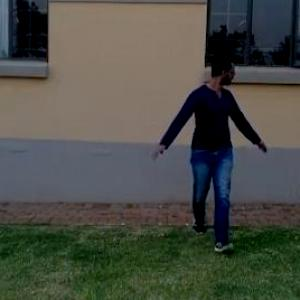land: (154, 55, 276, 253)
